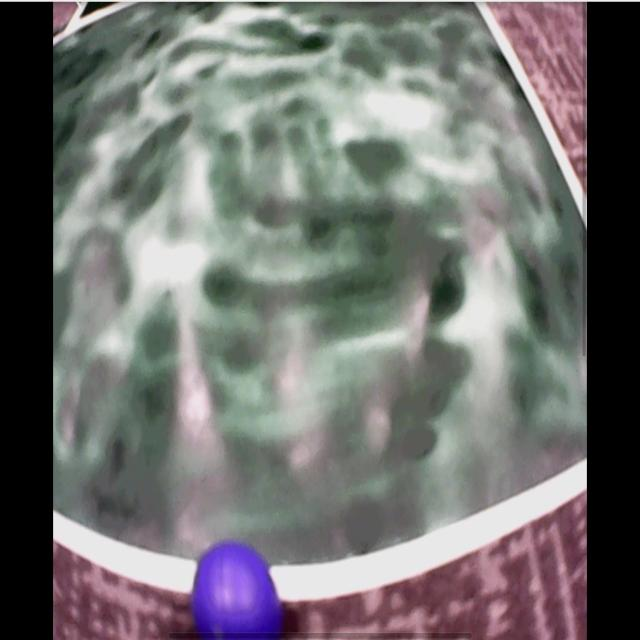ball: (195, 542, 280, 637)
